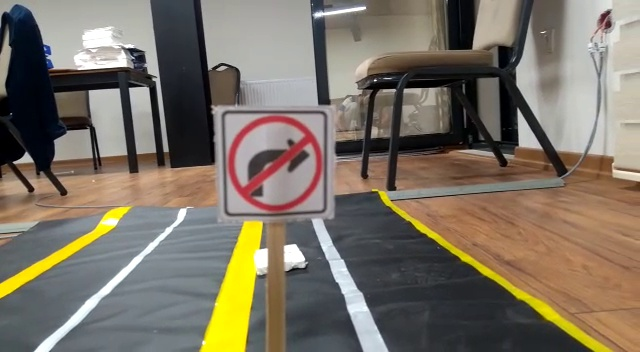park_yapilmaz: (223, 109, 331, 219)
